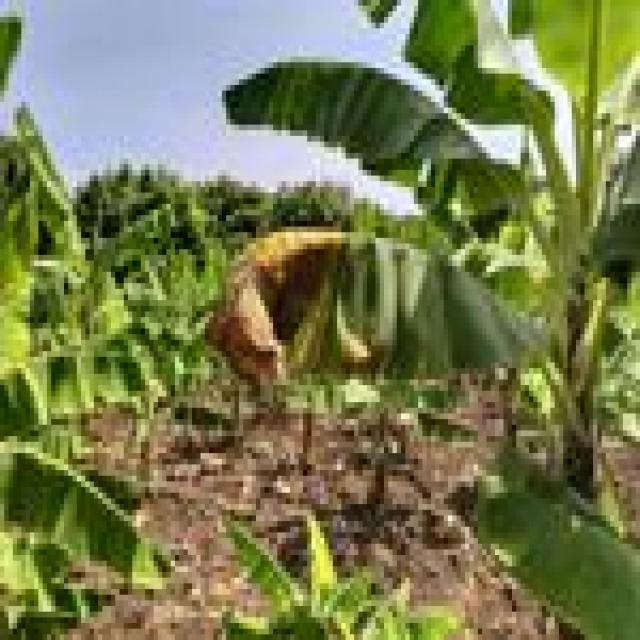Early_rust: (187, 204, 455, 434)
